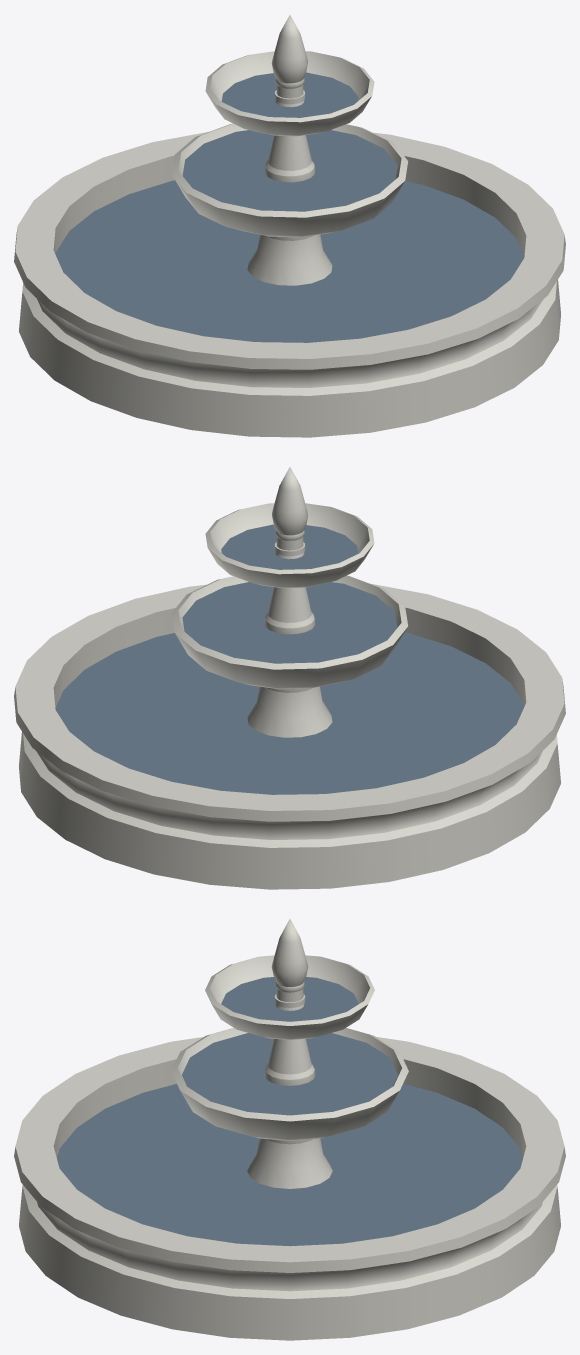
The model's file is Fontain.fbx.
3 renders of one model, top to bottom at view 1: azimuth 30°, elevation 25°; view 2: azimuth 150°, elevation 25°; view 3: azimuth 270°, elevation 25°, orthographic.
Parts seen in each view (by area): view 1: Fontain; view 2: Fontain; view 3: Fontain.
Boxes of the visible parts, x1=… form: Fontain: x1=14, y1=15, x2=565, y2=437; Fontain: x1=14, y1=467, x2=565, y2=889; Fontain: x1=14, y1=919, x2=565, y2=1340.
Bounding box in the file's own units: 459 × 282 × 459.
